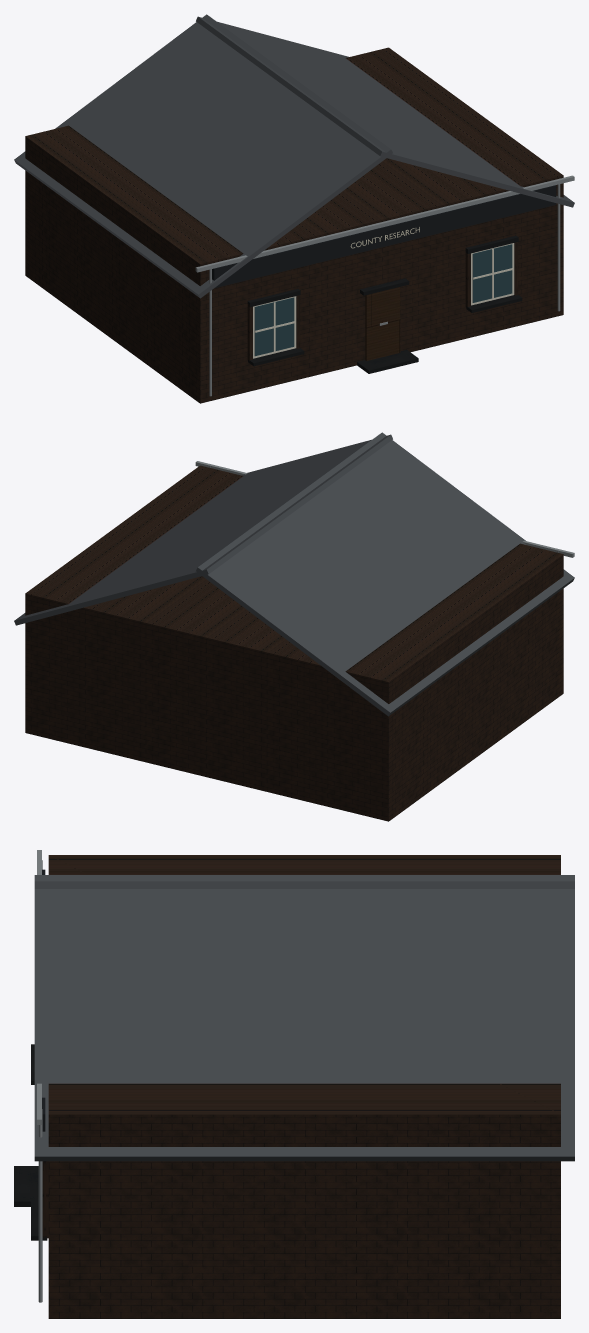
The model's file is clinic-building.glb.
3 renders of one model, top to bottom at view 1: azimuth 30°, elevation 25°; view 2: azimuth 150°, elevation 25°; view 3: azimuth 270°, elevation 25°, orthographic. The views are drawn at different scales.
Visible parts, largest first — view 1: Brick shell.001, Pitched roof.002, Pitched roof.003, Fascia, Front door.001, Gutter.001, Window glass.004, Window glass.005, Doorstep; view 2: Brick shell.001, Pitched roof.002, Pitched roof.003; view 3: Brick shell.001, Pitched roof.003, Pitched roof.002, Doorstep, Downpipe.003.
Part boxes in pixels (bbox=[...]): Brick shell.001: bbox=[25, 47, 563, 403]; Pitched roof.002: bbox=[14, 14, 392, 298]; Pitched roof.003: bbox=[196, 16, 574, 207]; Fascia: bbox=[212, 185, 556, 288]; Front door.001: bbox=[365, 287, 400, 360]; Gutter.001: bbox=[195, 175, 574, 272]; Window glass.004: bbox=[254, 297, 294, 356]; Window glass.005: bbox=[472, 244, 512, 302]; Doorstep: bbox=[357, 350, 418, 373]; Brick shell.001: bbox=[25, 465, 563, 821]; Pitched roof.002: bbox=[196, 432, 574, 716]; Pitched roof.003: bbox=[14, 434, 392, 625]; Brick shell.001: bbox=[48, 855, 560, 1318]; Pitched roof.003: bbox=[34, 875, 574, 1161]; Pitched roof.002: bbox=[34, 881, 574, 888]; Doorstep: bbox=[14, 1166, 38, 1206]; Downpipe.003: bbox=[38, 1108, 42, 1302].
Bounding box in the file's own units: 12.45 × 6.7 × 10.96.
9 materials, 3 textured.
